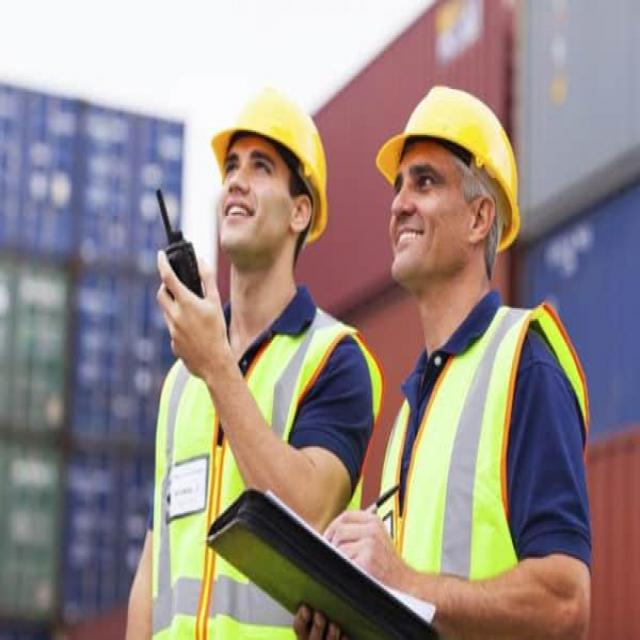Reflective-Jacket: (145, 304, 382, 630), (374, 297, 596, 624)
Safety-Helmet: (375, 80, 528, 252), (203, 76, 335, 238)
